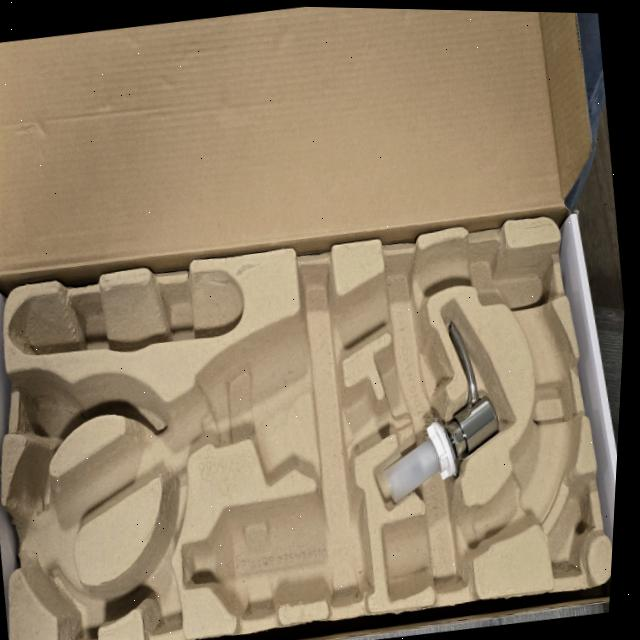1m: (8, 238, 580, 598)
2: (385, 315, 501, 503)
3m: (182, 491, 373, 617)
4m: (11, 266, 242, 353)
5m: (26, 389, 75, 439)
6m: (36, 560, 100, 625)
7m: (132, 541, 170, 599)
